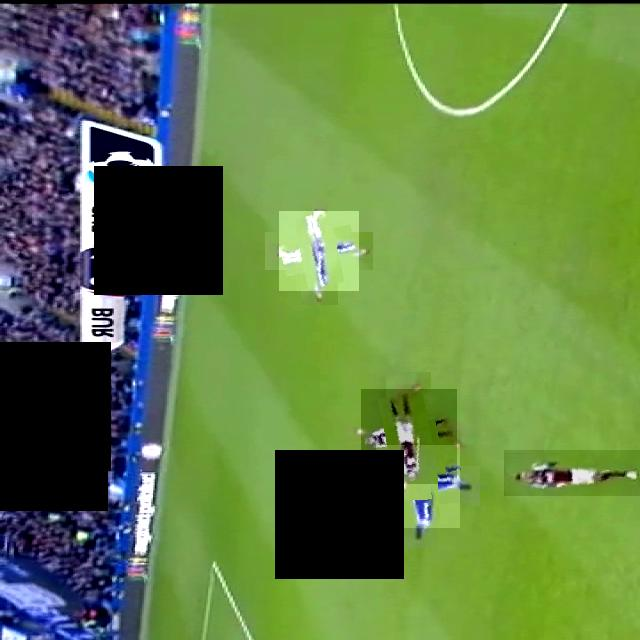soccer-player: (361, 388, 457, 483), (376, 443, 460, 528), (279, 210, 359, 290), (504, 449, 640, 495)
